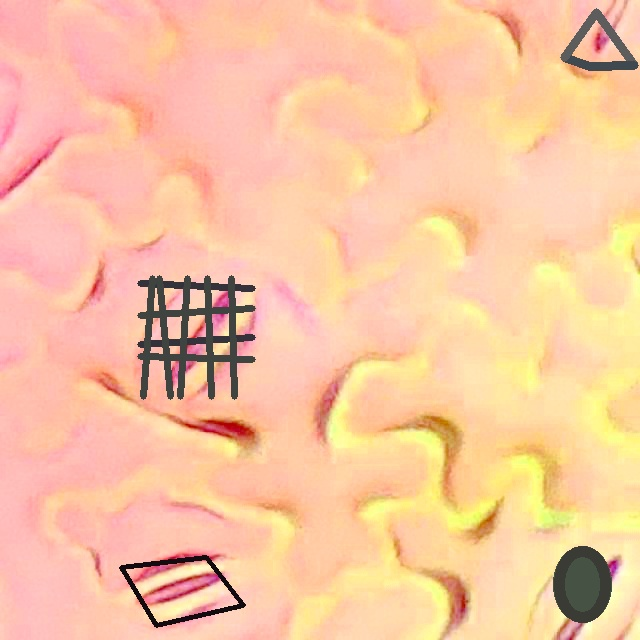open: (138, 275, 255, 398), (119, 555, 245, 627), (560, 8, 638, 69), (553, 546, 611, 622)
